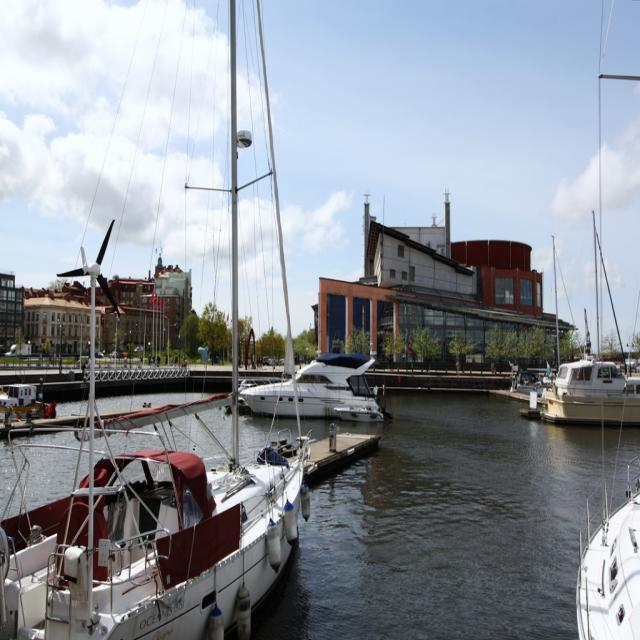Boat: (1, 240, 293, 632), (574, 0, 639, 639), (568, 476, 640, 639), (239, 351, 389, 423), (530, 346, 640, 434), (0, 382, 66, 432)
